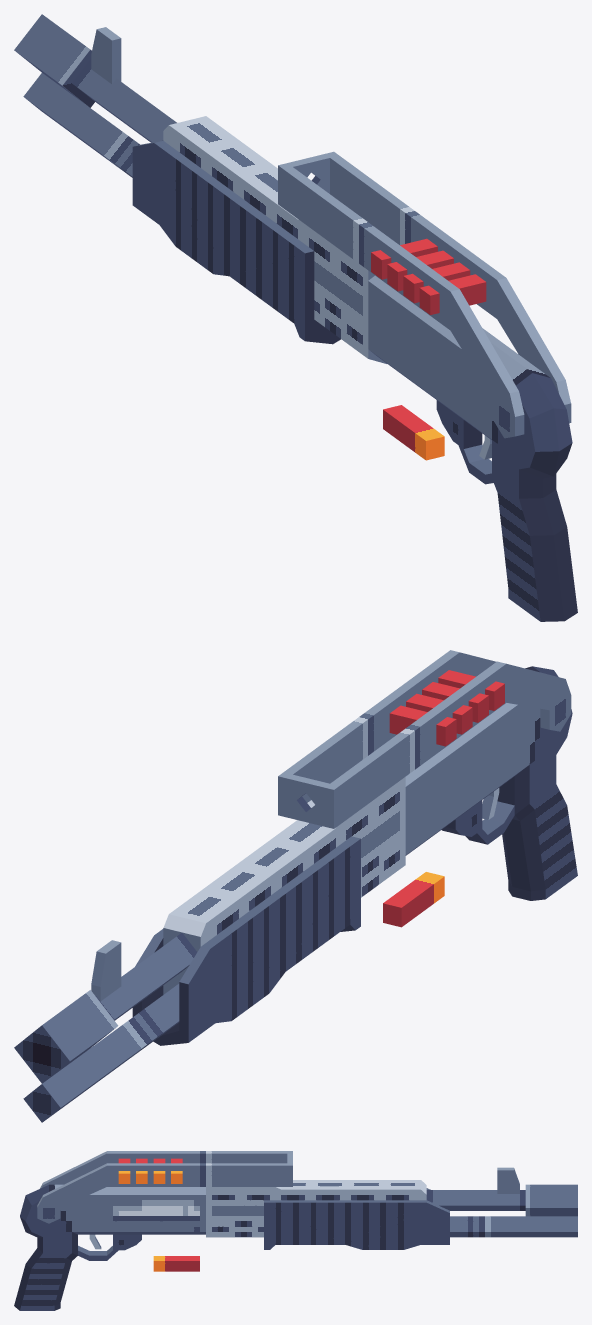
File: spas12.glb
3 renders of one model, top to bottom at view 1: azimuth 30°, elevation 25°; view 2: azimuth 150°, elevation 25°; view 3: azimuth 270°, elevation 25°, orthographic. The views are drawn at different scales.
Visible parts, largest first — view 1: shotgun, pump, shells, shell; view 2: shotgun, pump, shells, shell; view 3: shotgun, pump, shells, shell.
Boxes of the visible parts, <box> form: shotgun: <box>14,14,577,621</box>; pump: <box>132,140,340,344</box>; shells: <box>371,238,486,314</box>; shell: <box>383,405,444,460</box>; shotgun: <box>14,650,577,1122</box>; pump: <box>132,836,360,1045</box>; shells: <box>389,670,504,746</box>; shell: <box>383,872,444,927</box>; shotgun: <box>14,1151,577,1310</box>; pump: <box>264,1188,449,1249</box>; shells: <box>118,1158,182,1183</box>; shell: <box>153,1256,199,1271</box>.
Bounding box in the file's own units: 0.5 × 1.75 × 6.06.
Materials: 1 (1 with a texture image).
